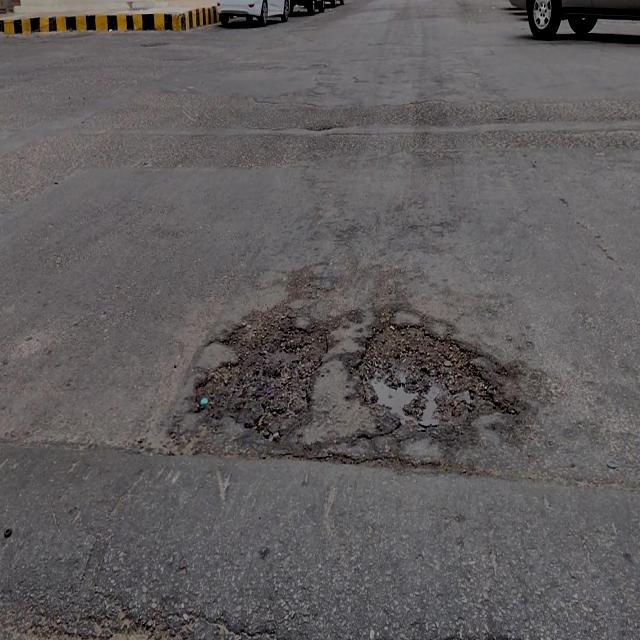Potholes: (361, 317, 496, 428), (202, 315, 327, 428)
